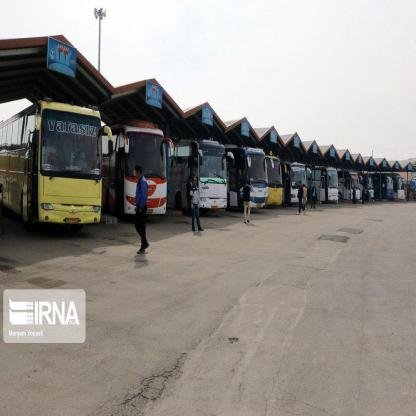Bus: (0, 75, 105, 234), (101, 120, 170, 217), (168, 141, 230, 211), (232, 149, 269, 210), (262, 158, 288, 206), (289, 162, 313, 209), (314, 163, 340, 198), (342, 172, 362, 202), (382, 177, 406, 202)
